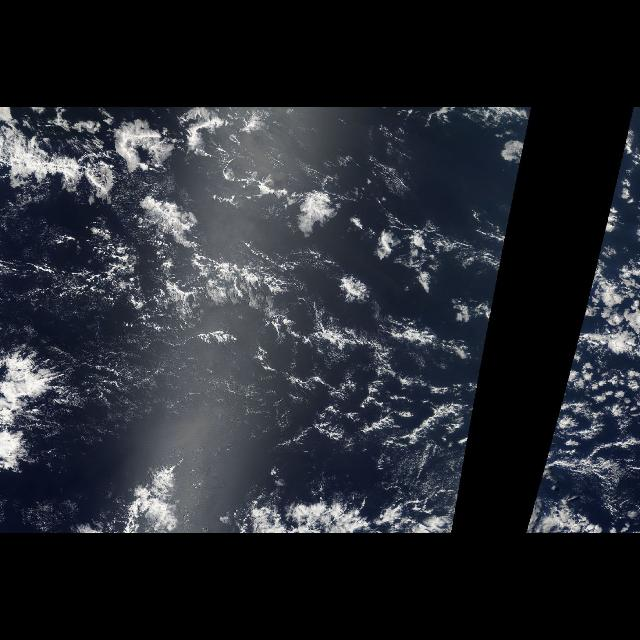Flower: (103, 109, 363, 281)
Gravel: (252, 338, 474, 472)
Sugar: (5, 203, 79, 314), (387, 434, 459, 528)
